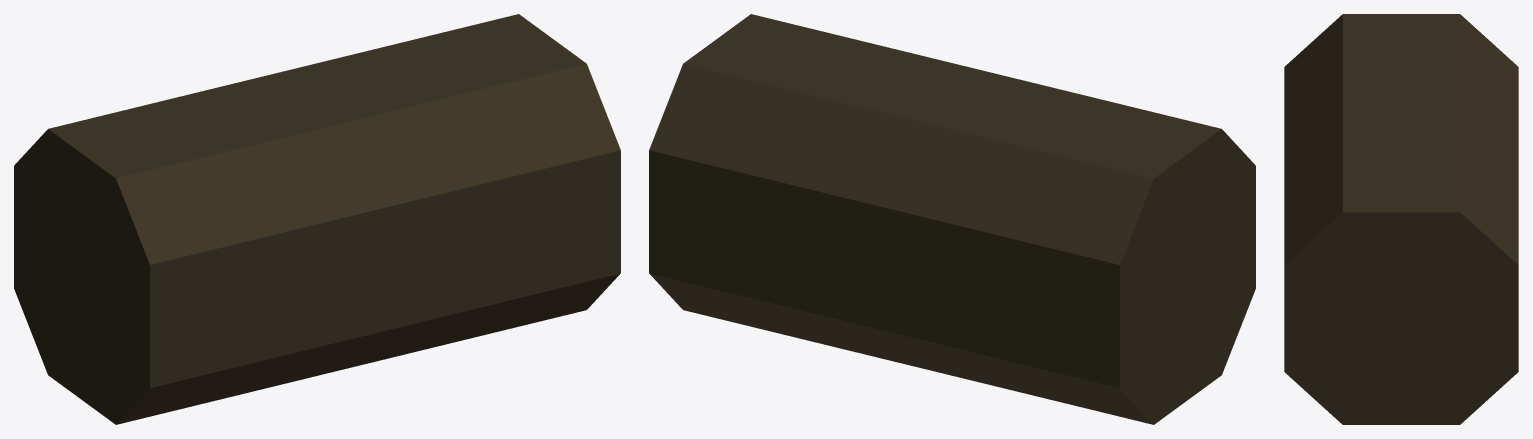
Rendered from Log.dae.
3 views of the same model, side by side, from view 1: azimuth 30°, elevation 25°; view 2: azimuth 150°, elevation 25°; view 3: azimuth 270°, elevation 25° (orthographic). The views are drawn at different scales.
Visible parts, largest first — view 1: Cube; view 2: Cube; view 3: Cube.
Boxes of the visible parts, x1,y1,x2,y2 form: Cube: [14, 14, 620, 424]; Cube: [649, 14, 1255, 424]; Cube: [1284, 14, 1518, 424].
Bounding box in the file's own units: 8 × 4 × 4.
